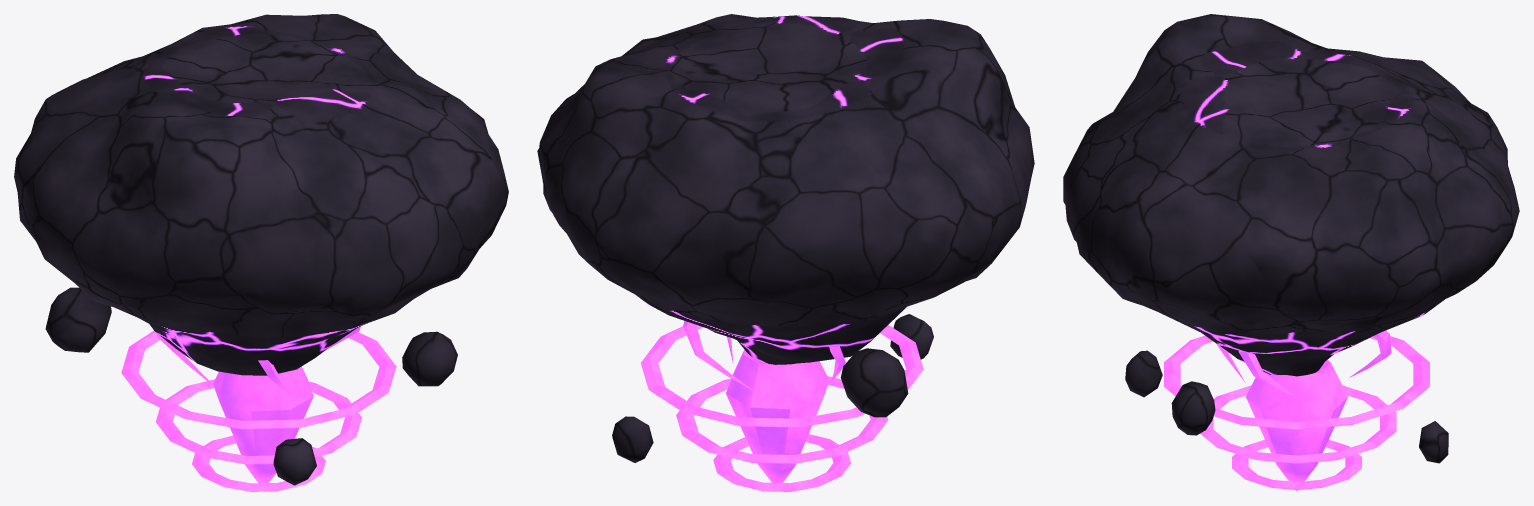
File: roca_flotante.fbx
3 renders of one model, left to right at view 1: azimuth 30°, elevation 25°; view 2: azimuth 150°, elevation 25°; view 3: azimuth 270°, elevation 25°, orthographic. The views are drawn at different scales.
Parts seen in each view (by area): view 1: roca, energia_neon; view 2: roca, energia_neon; view 3: roca, energia_neon.
Boxes of the visible parts, <box> form: roca: <box>14,14,508,485</box>; energia_neon: <box>121,326,396,491</box>; roca: <box>537,14,1034,462</box>; energia_neon: <box>640,321,923,491</box>; roca: <box>1063,14,1519,463</box>; energia_neon: <box>1164,330,1429,491</box>.
Size of the model in its own units: 3 by 3 by 3.
Materials: 1 (1 with a texture image).
